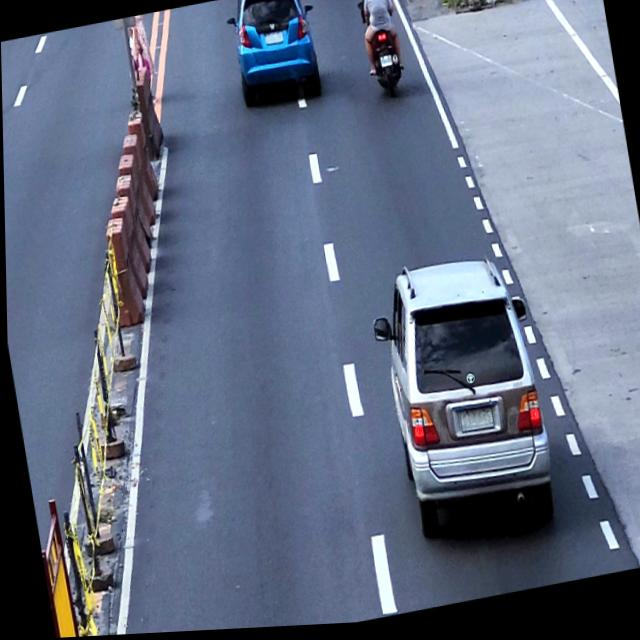Car: (362, 247, 561, 564), (222, 0, 327, 114)
License-Plate: (456, 407, 493, 437), (264, 34, 284, 50), (380, 59, 392, 70)
Motorcycle: (358, 0, 406, 105)
